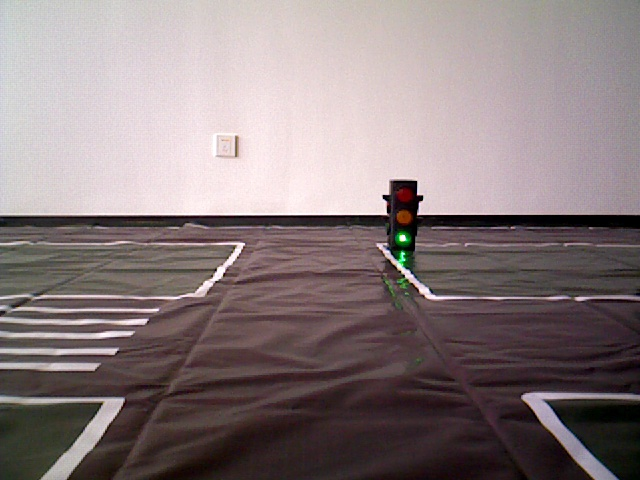green: (391, 182, 413, 248)
